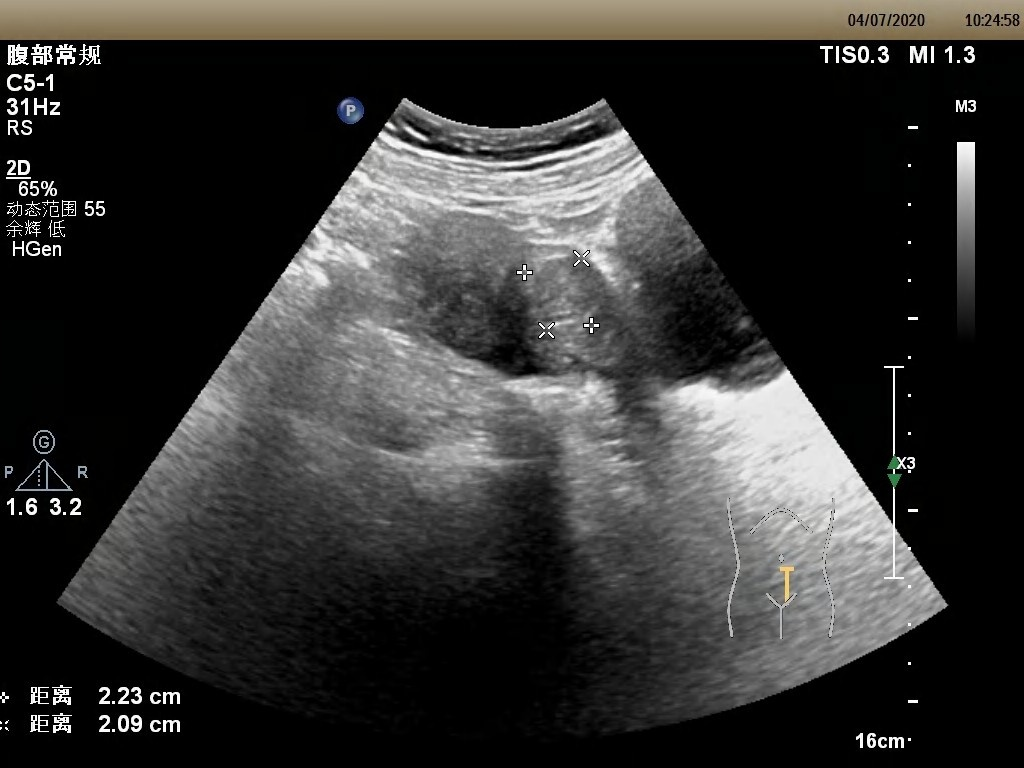肌瘤: (528, 252, 605, 331)
